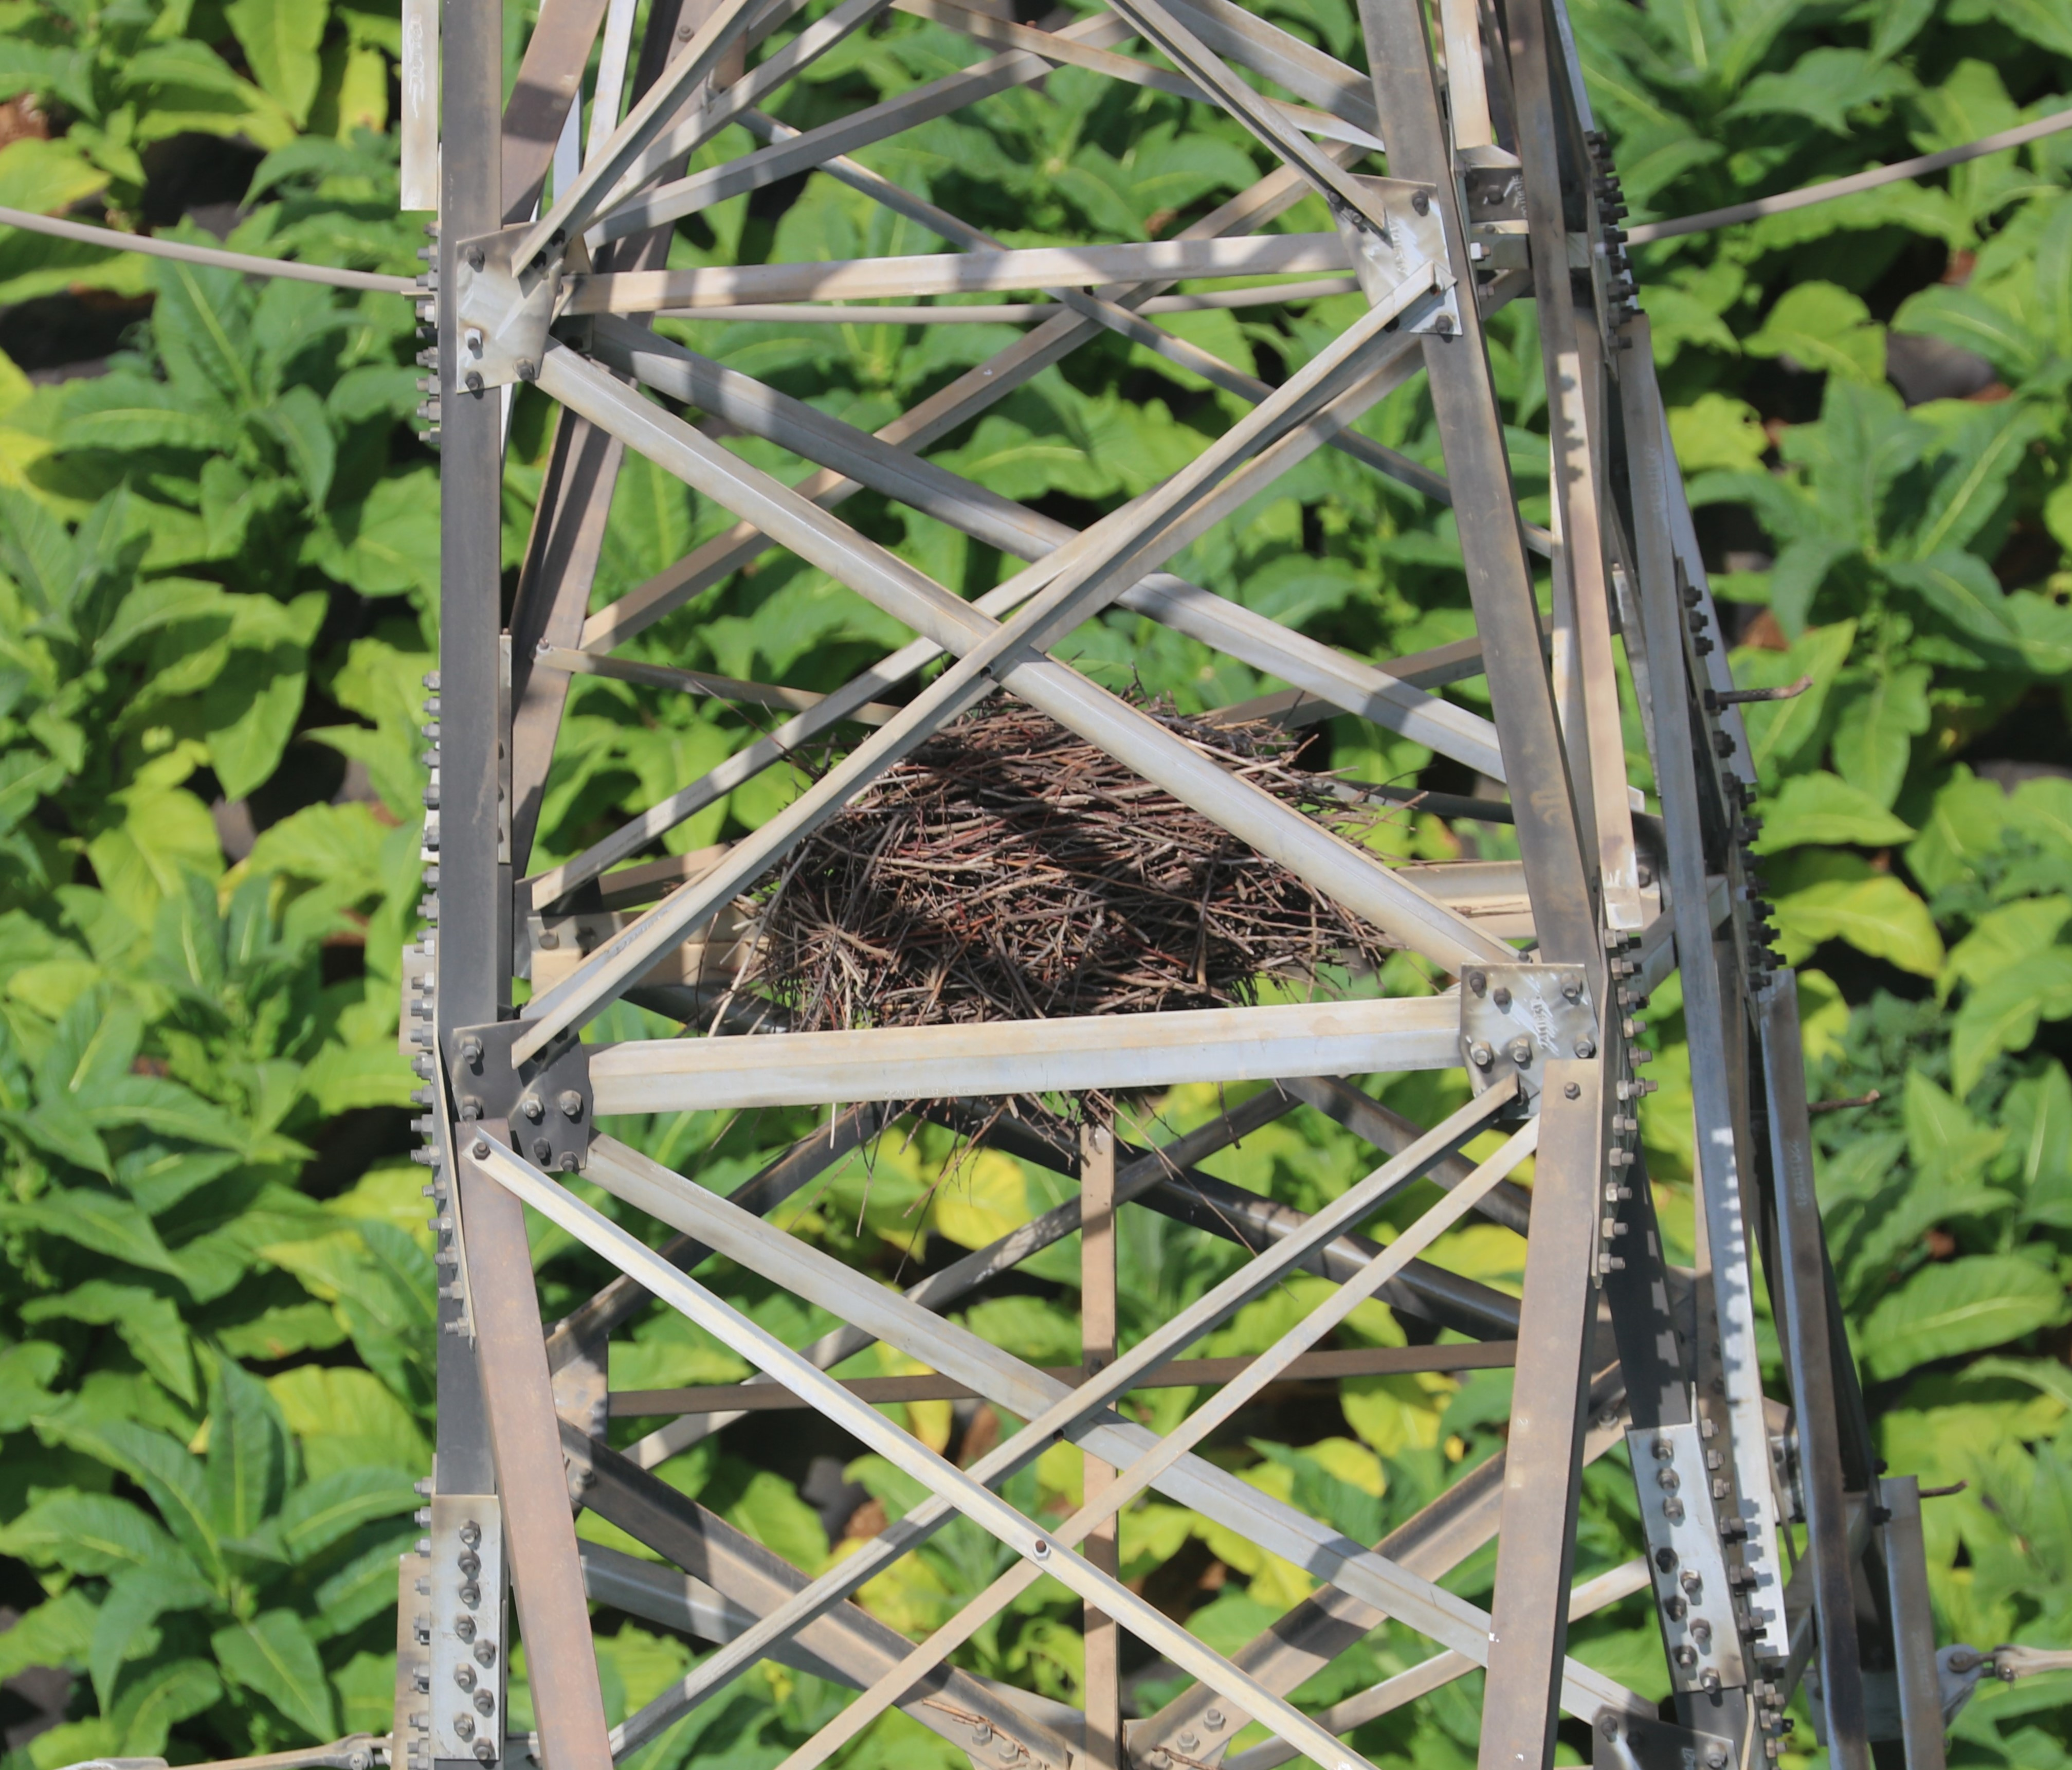niaowo: (716, 627, 1375, 1129)
